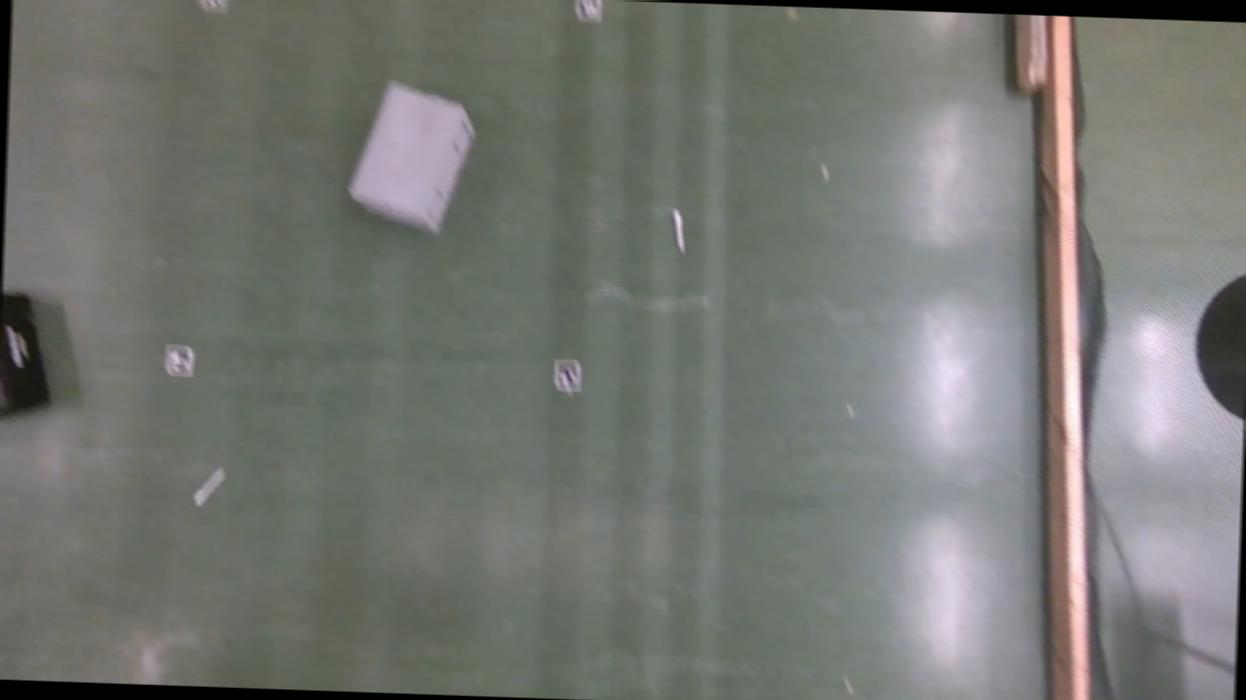probes: (194, 467, 225, 507), (673, 210, 687, 255)
rako: (346, 80, 476, 237), (0, 287, 54, 424)
